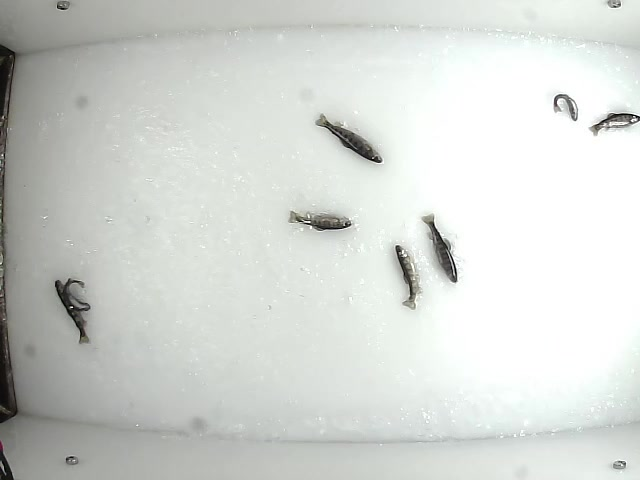fish: (314, 113, 384, 165), (52, 275, 93, 347), (420, 211, 459, 285), (391, 242, 421, 311), (285, 208, 354, 231), (585, 111, 640, 138), (61, 278, 93, 314), (551, 93, 581, 124)
